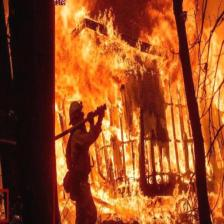fire: (53, 0, 224, 224), (0, 188, 8, 222)
